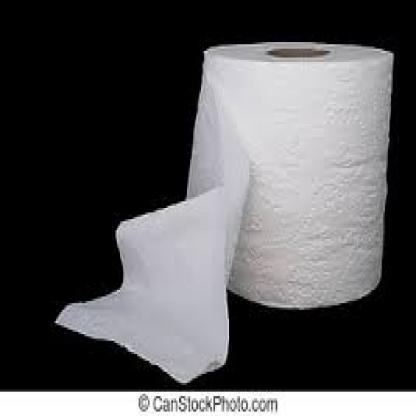tissue: (195, 35, 395, 307)
